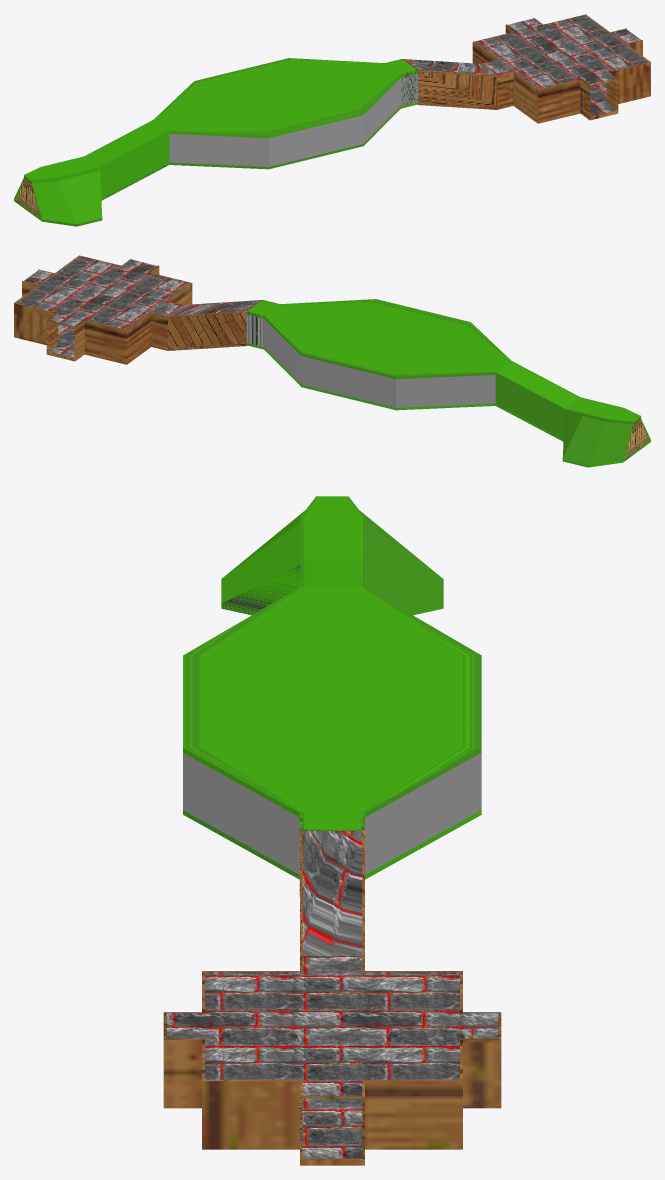
File: room_v2.glb
The picture shows the model from 3 angles, top to bottom: view 1: azimuth 30°, elevation 25°; view 2: azimuth 150°, elevation 25°; view 3: azimuth 270°, elevation 25°; orthographic projection. The views are drawn at different scales.
Visible parts, largest first — view 1: Garden, Room; view 2: Garden, Room; view 3: Garden, Room.
Part boxes in pixels (x1,y1,x2,y2): Garden: [14, 58, 418, 226]; Room: [402, 14, 650, 123]; Garden: [246, 299, 650, 467]; Room: [14, 255, 262, 364]; Garden: [183, 496, 481, 896]; Room: [163, 830, 501, 1165].
Bounding box in the file's own units: 69.49 × 6.39 × 16.72.
Materials: 8 (8 with a texture image).
